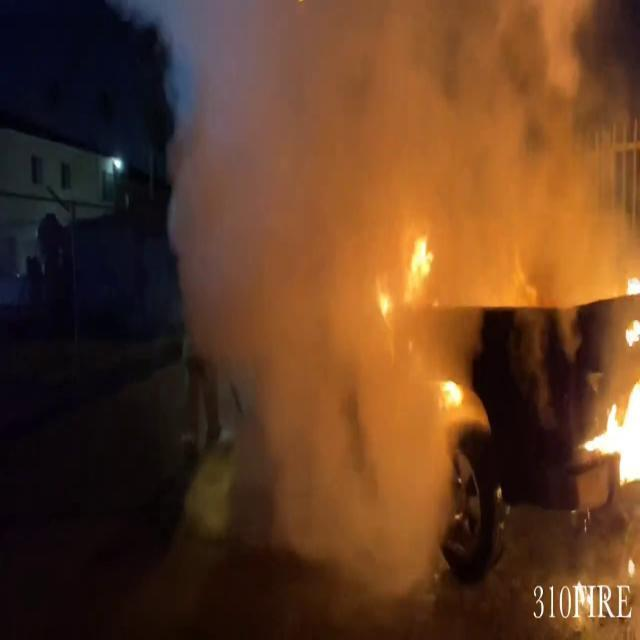Fire: (585, 278, 640, 486), (372, 224, 436, 336)
Smoke: (128, 1, 474, 596), (345, 0, 640, 295)
